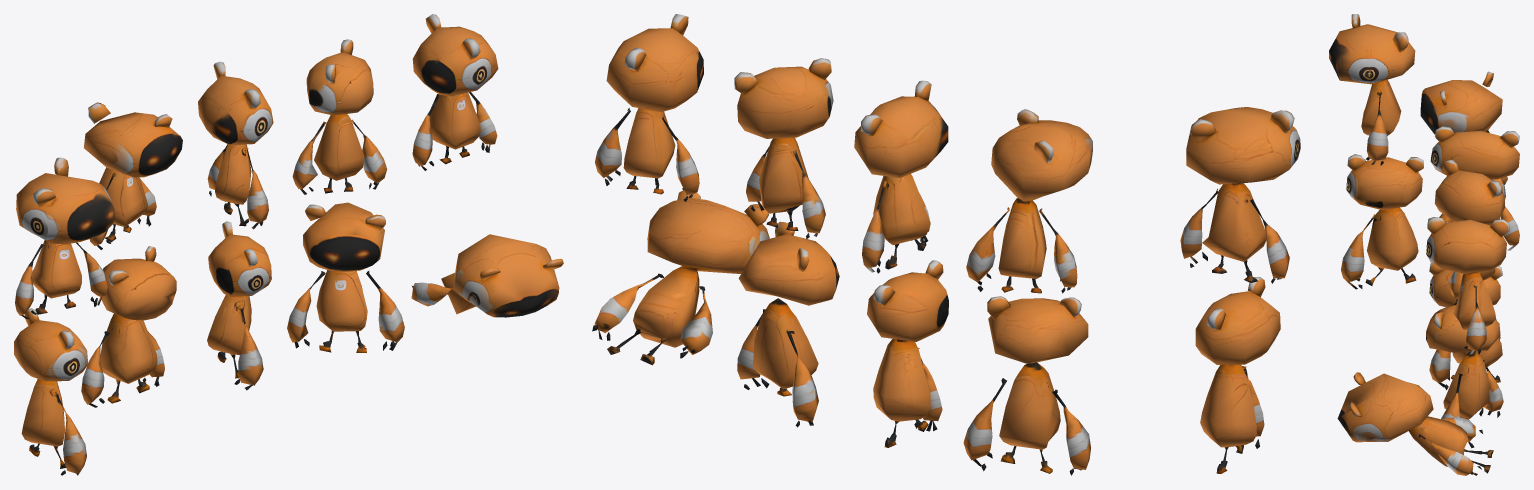
3 renders of one model, left to right at view 1: azimuth 30°, elevation 25°; view 2: azimuth 150°, elevation 25°; view 3: azimuth 270°, elevation 25°, orthographic. The views are drawn at different scales.
Visible parts, largest first — view 1: tripo_node_93c17d09-f2c7-4207-bfb7-29c9973d4551; view 2: tripo_node_93c17d09-f2c7-4207-bfb7-29c9973d4551; view 3: tripo_node_93c17d09-f2c7-4207-bfb7-29c9973d4551.
Part boxes in pixels (x1,y1,x2,y2): tripo_node_93c17d09-f2c7-4207-bfb7-29c9973d4551: [14, 14, 563, 475]; tripo_node_93c17d09-f2c7-4207-bfb7-29c9973d4551: [592, 14, 1300, 475]; tripo_node_93c17d09-f2c7-4207-bfb7-29c9973d4551: [1329, 14, 1519, 475].
Size of the model in its own units: 0.998 by 0.5293 by 0.3457.
1 material, 1 textured.
